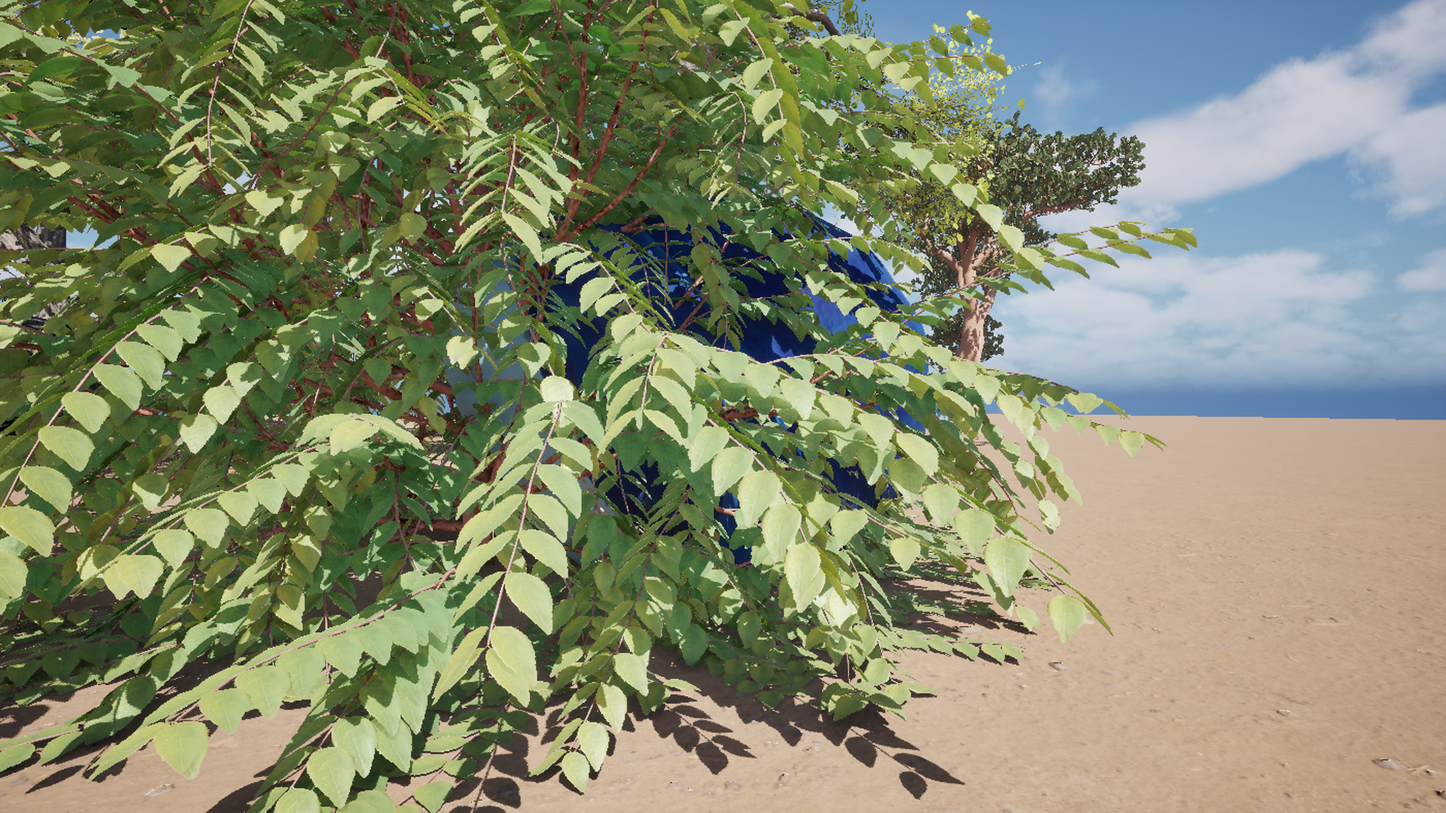Piplup: (290, 0, 1168, 813)
